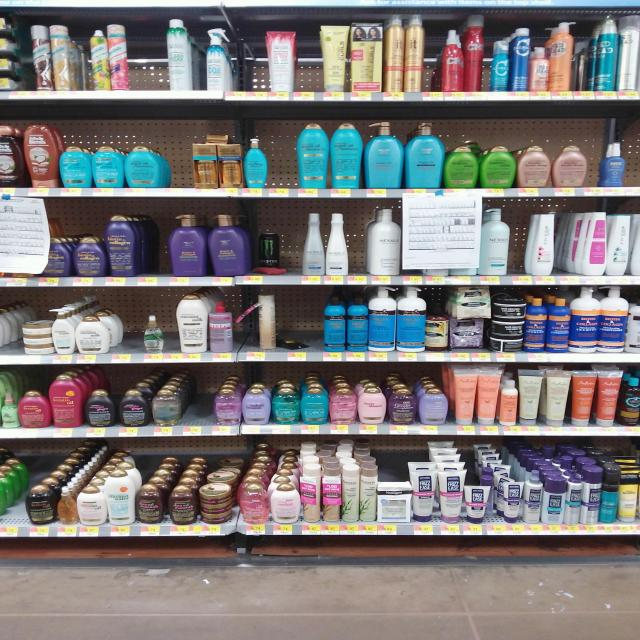empty_space: (134, 28, 166, 84), (267, 131, 297, 187), (240, 32, 264, 87), (167, 127, 191, 181), (288, 299, 318, 341), (304, 34, 320, 84), (190, 383, 210, 421)
